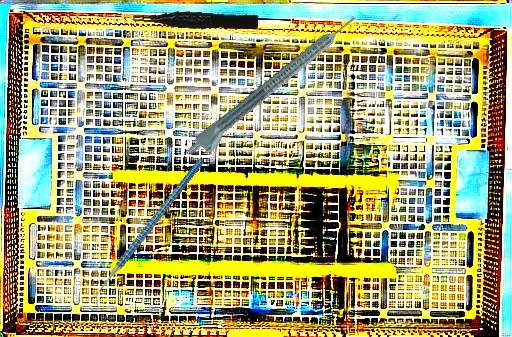Chopper: (56, 157, 241, 313)
Handpiece: (183, 11, 366, 166)
Tissue Forceps: (132, 4, 259, 35)
